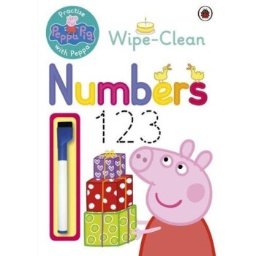Peppa: (127, 138, 218, 256)
